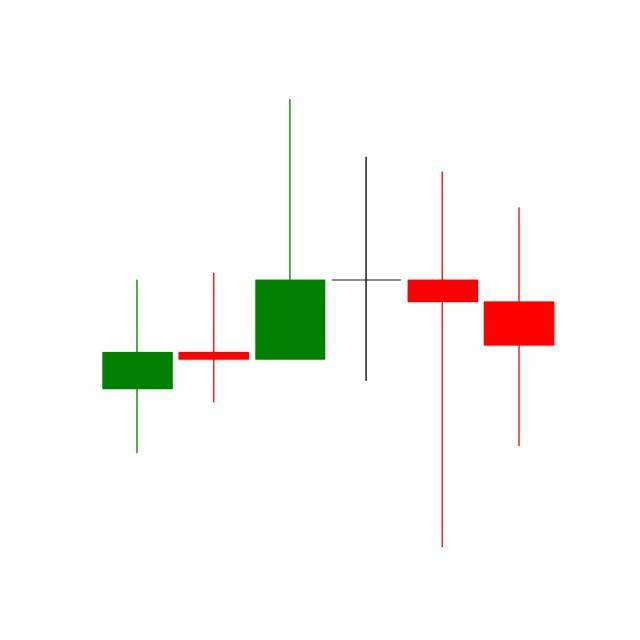Spinning Top: (404, 167, 482, 552)
